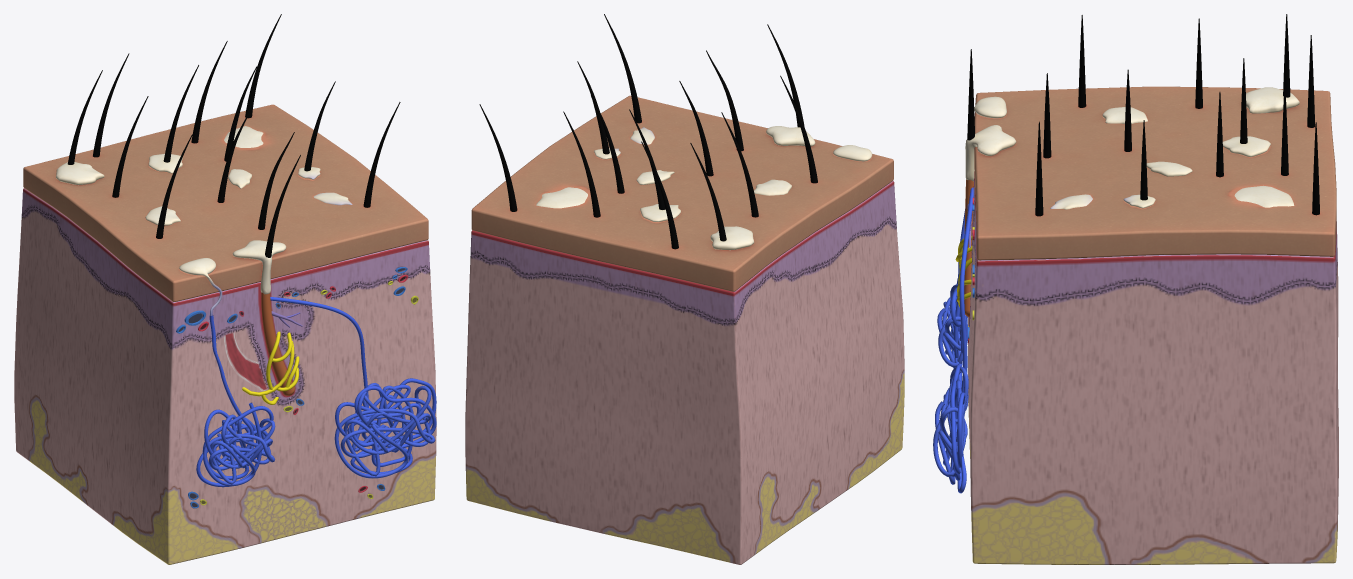
The picture shows the model from 3 angles, left to right: view 1: azimuth 30°, elevation 25°; view 2: azimuth 150°, elevation 25°; view 3: azimuth 270°, elevation 25°; orthographic projection. The views are drawn at different scales.
Parts seen in each view (by area): view 1: pCube4_lambert3_0; view 2: pCube4_lambert3_0; view 3: pCube4_lambert3_0.
Part boxes in pixels (box(x1,y1,x2,y2)): pCube4_lambert3_0: box(14, 14, 436, 564); pCube4_lambert3_0: box(465, 14, 904, 564); pCube4_lambert3_0: box(933, 14, 1338, 564).
Bounding box in the file's own units: 0.1094 × 0.1454 × 0.1218.
2 materials, 2 textured.
